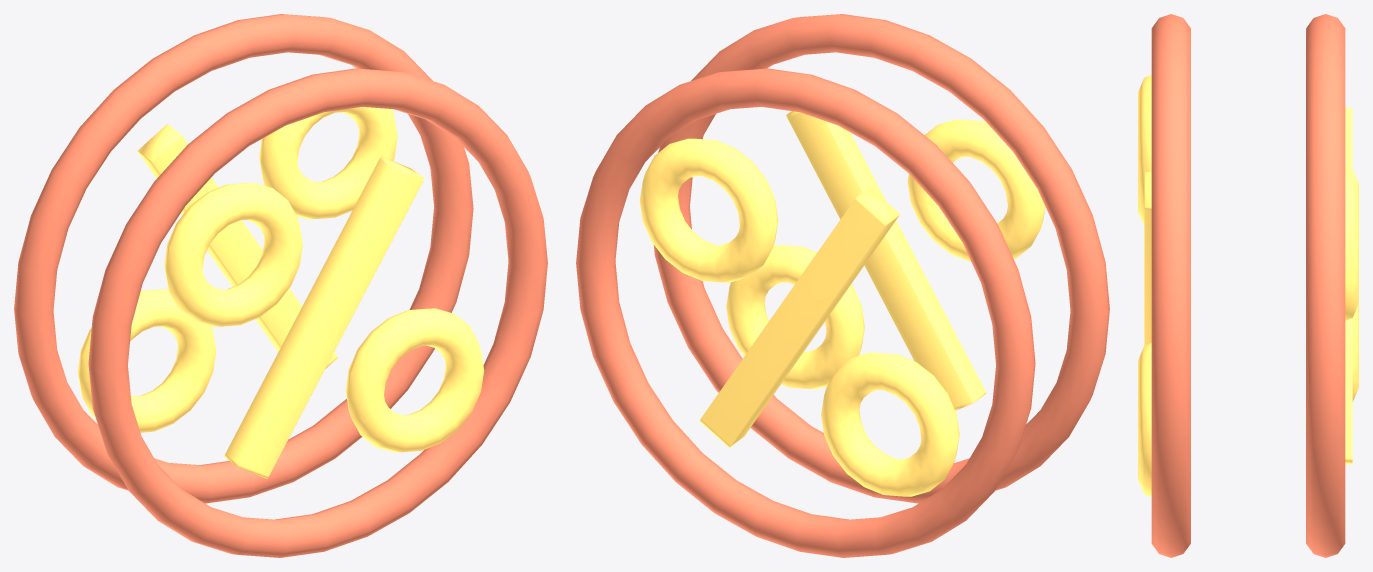
File: hedgeguard_emblem_13.glb
The picture shows the model from 3 angles, left to right: view 1: azimuth 30°, elevation 25°; view 2: azimuth 150°, elevation 25°; view 3: azimuth 270°, elevation 25°; orthographic projection. The views are drawn at different scales.
Visible parts, largest first — view 1: EmblemFourmidable; view 2: EmblemFourmidable; view 3: EmblemFourmidable.
Part boxes in pixels (x1,y1,x2,y2): EmblemFourmidable: [14, 14, 547, 557]; EmblemFourmidable: [576, 14, 1109, 557]; EmblemFourmidable: [1138, 14, 1358, 557].
Size of the model in its own units: 0.952 by 0.952 by 0.386.
